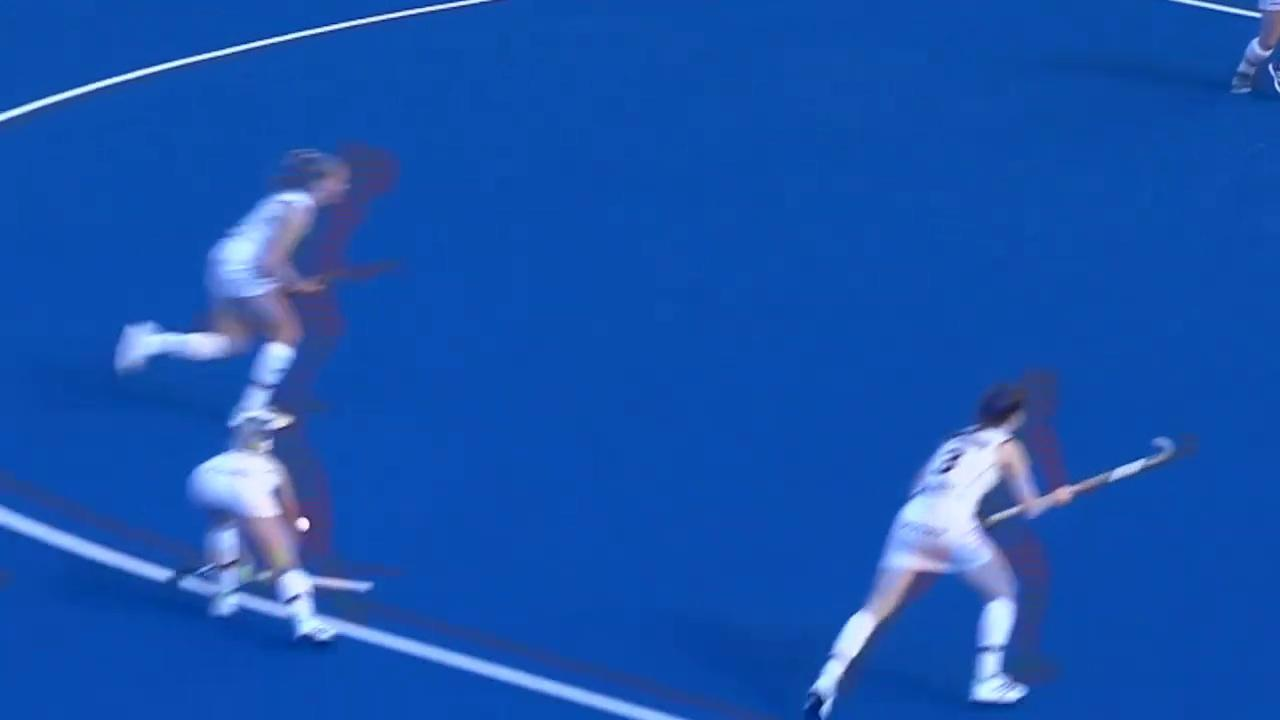ball: (292, 512, 317, 539)
